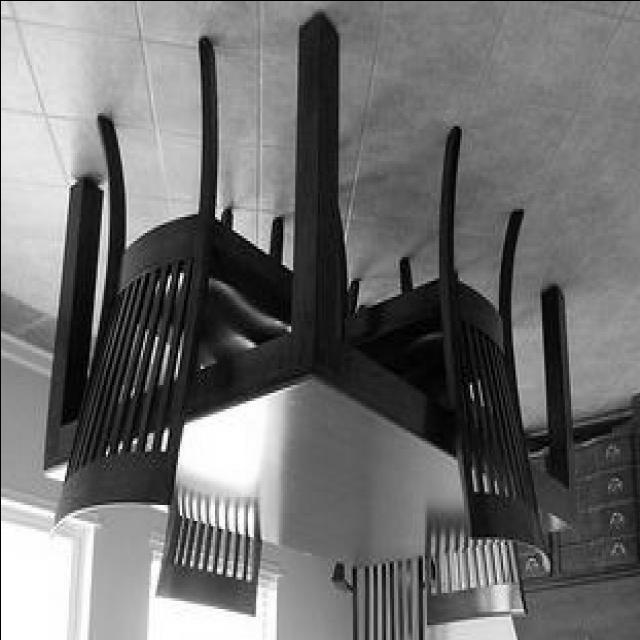chair: (49, 39, 302, 530), (352, 130, 558, 570)
table: (41, 17, 578, 572)
